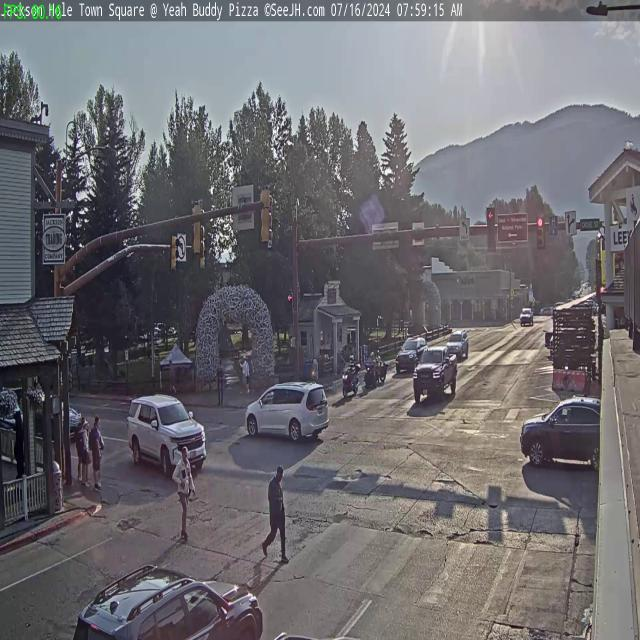minivan: (245, 384, 330, 436)
motorcycle: (340, 361, 358, 397), (365, 359, 380, 391)
person: (263, 466, 286, 558), (89, 413, 103, 498), (73, 417, 88, 487), (182, 452, 193, 536), (242, 350, 250, 394), (217, 366, 224, 406)
pickup: (409, 351, 458, 407)
suv: (68, 562, 268, 640), (127, 384, 205, 478), (520, 394, 605, 476), (396, 336, 428, 373), (446, 330, 469, 360), (518, 306, 534, 326)
traffic light: (260, 182, 272, 243), (191, 199, 203, 256), (486, 207, 496, 252), (536, 215, 545, 248)
